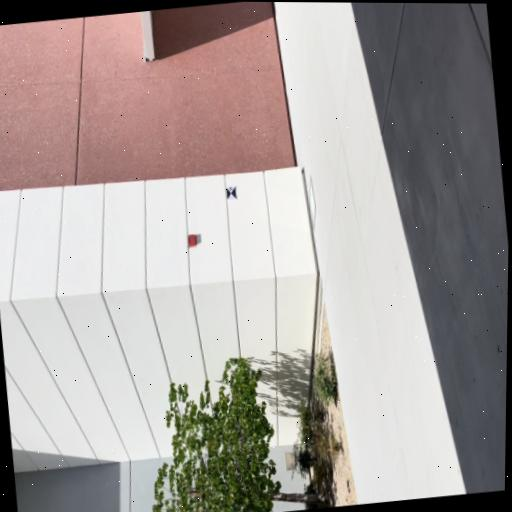target9: (226, 186, 237, 200)
